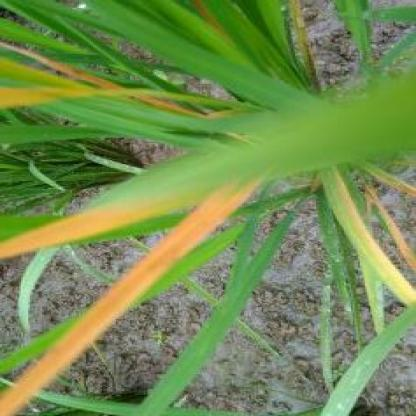Tungro: (1, 185, 266, 416), (1, 199, 215, 262), (324, 166, 416, 305)
